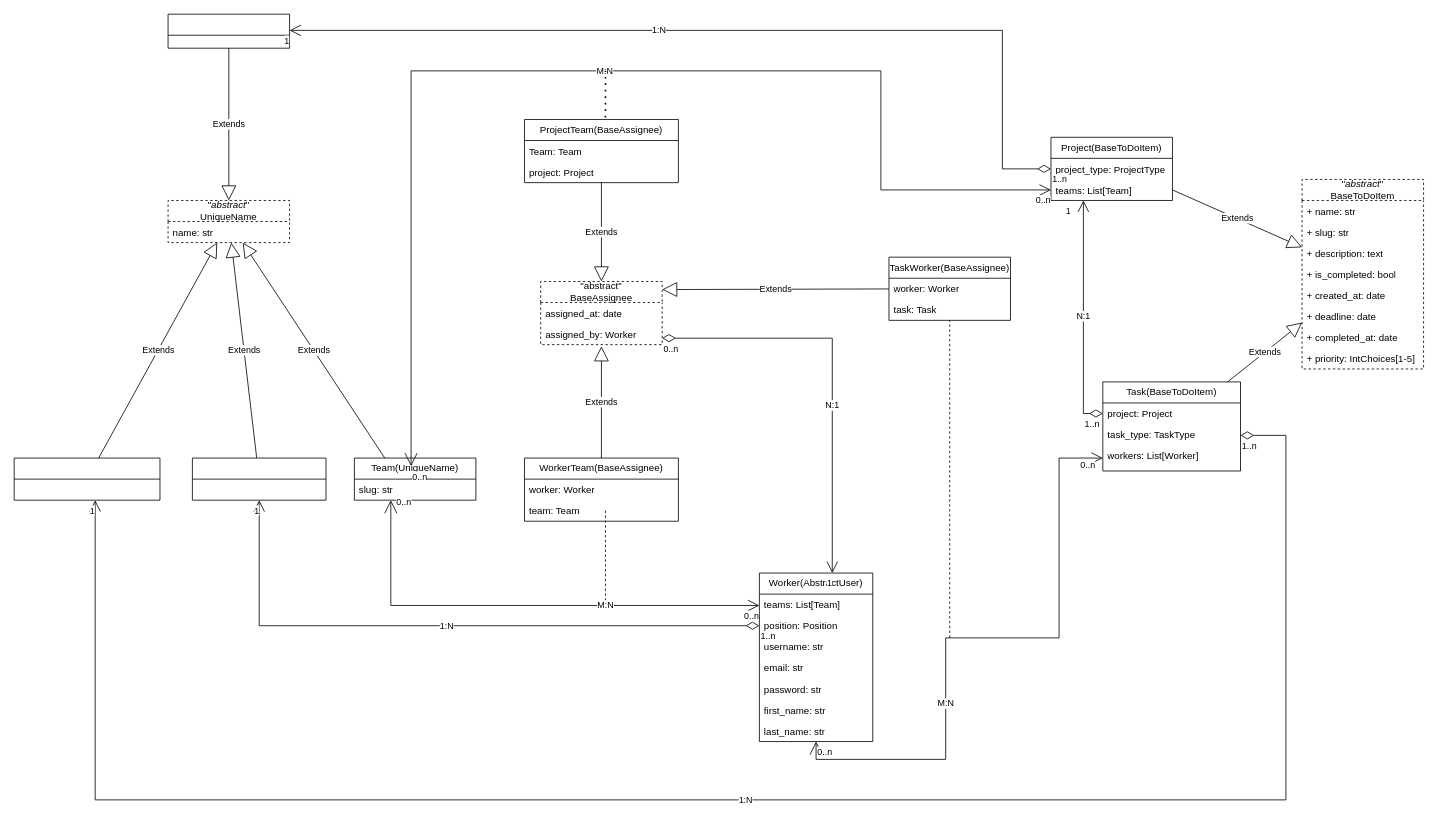
Some shapes in this 1438 by 828 pixel diagram are drawn without their labels. Here are the shapes that lost their labels. From the top down, the centre of each, then its label:
the point at 228,30: ProjectType(UniqueName)
the point at 86,478: TaskType(UniqueName)
the point at 259,478: Position(UniqueName)
